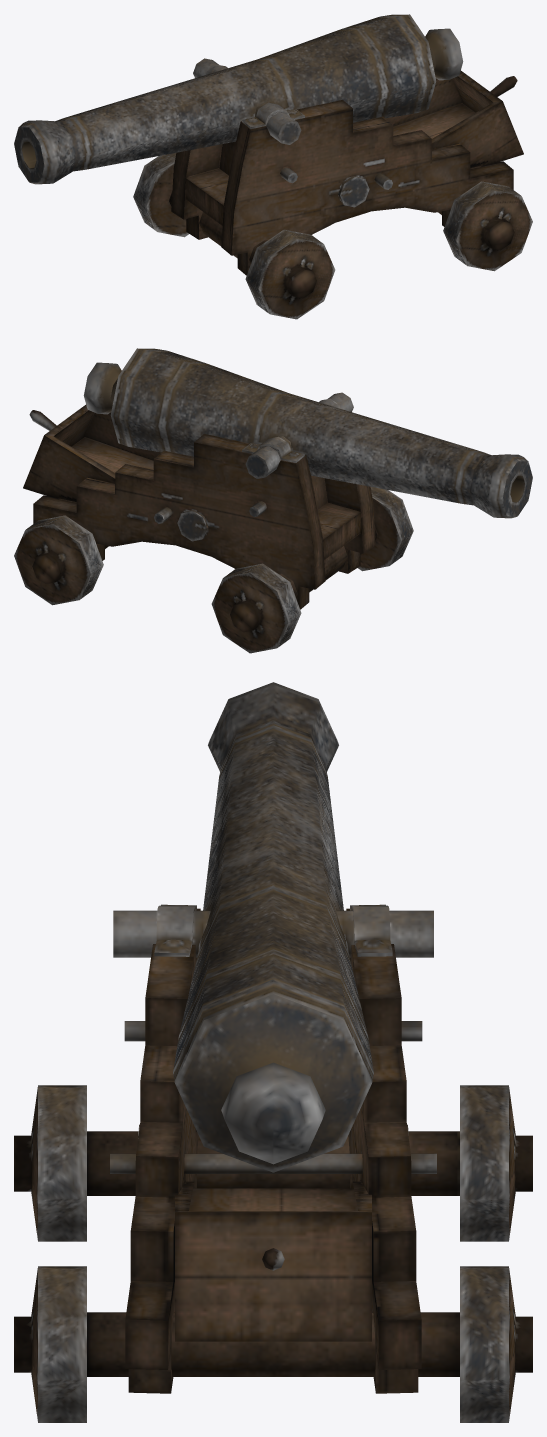
File: armata_lod_lvl_02.fbx
3 views of the same model, one above another, from view 1: azimuth 30°, elevation 25°; view 2: azimuth 150°, elevation 25°; view 3: azimuth 270°, elevation 25° (orthographic). The views are drawn at different scales.
Visible parts, largest first — view 1: armata_lod_lvl2; view 2: armata_lod_lvl2; view 3: armata_lod_lvl2.
Boxes of the visible parts, box(x1,y1,x2,y2) form: armata_lod_lvl2: box(14, 14, 532, 319); armata_lod_lvl2: box(14, 348, 532, 653); armata_lod_lvl2: box(14, 682, 532, 1422).
Bounding box in the file's own units: 209 × 88.95 × 103.
Materials: 1 (1 with a texture image).
